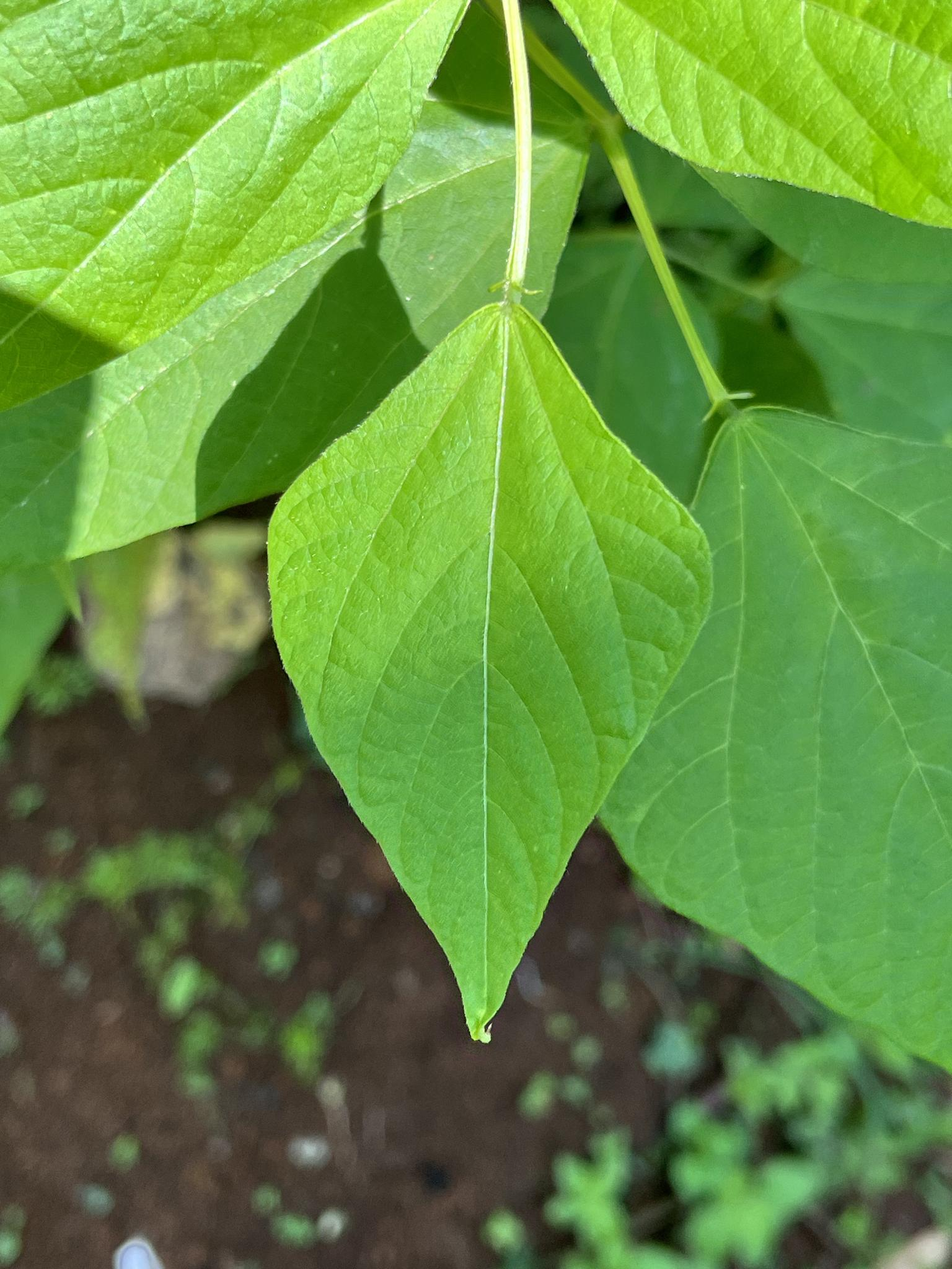sehat: (261, 278, 727, 1040)
